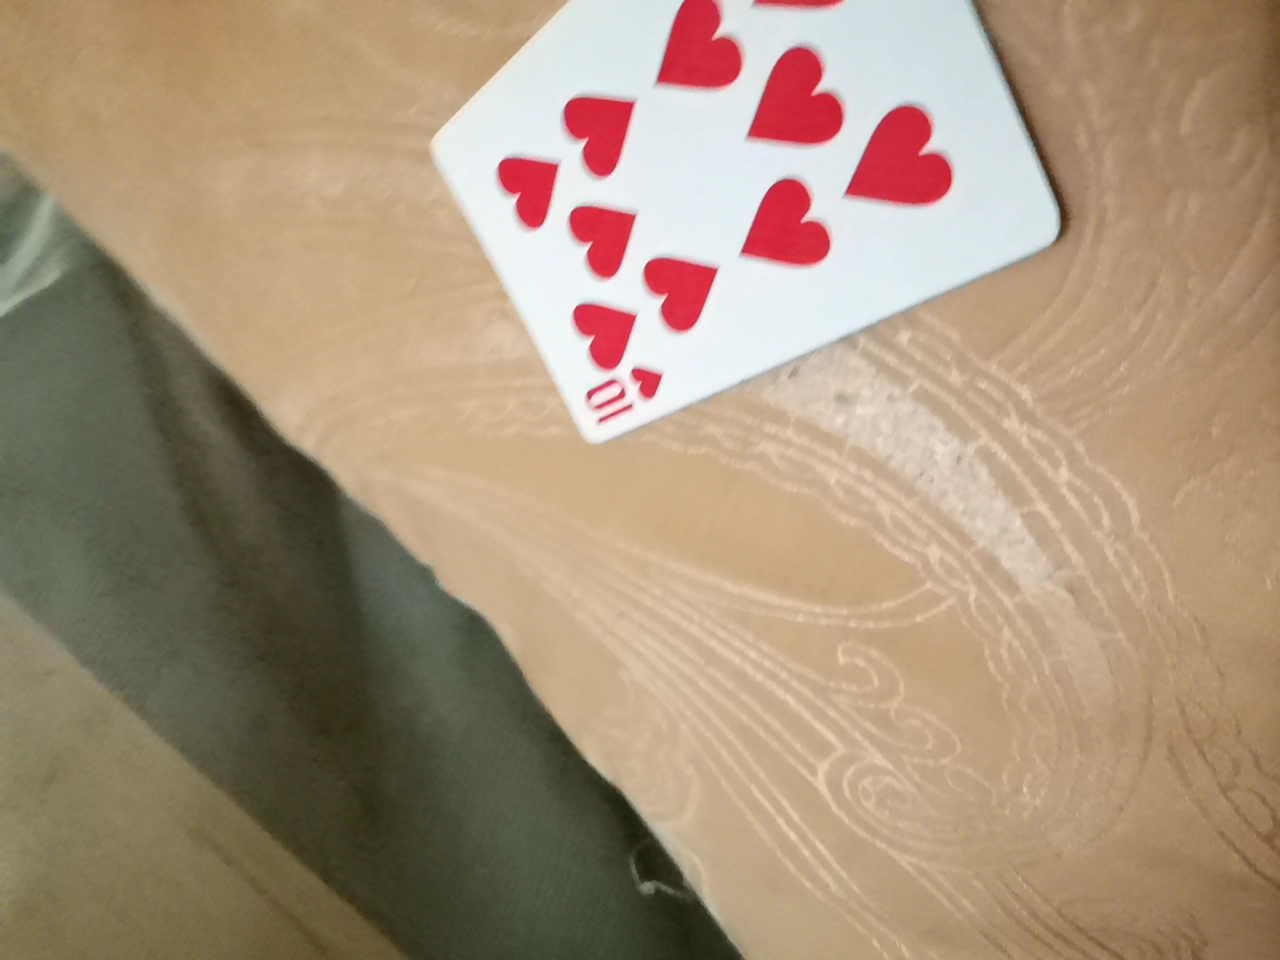hx 10: (421, 1, 1081, 400)
